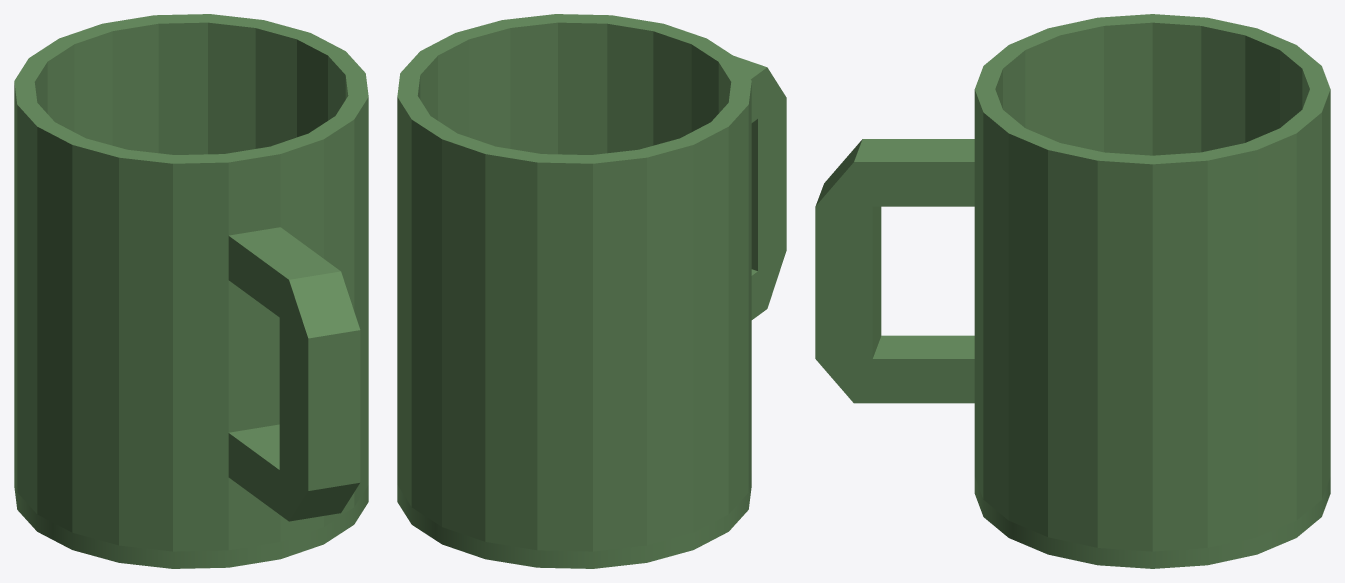
File: Mug.fbx
The picture shows the model from 3 angles, left to right: view 1: azimuth 30°, elevation 25°; view 2: azimuth 150°, elevation 25°; view 3: azimuth 270°, elevation 25°; orthographic projection.
Visible parts, largest first — view 1: cup; view 2: cup; view 3: cup.
Part boxes in pixels (bbox=[...]): cup: bbox=[14, 14, 368, 568]; cup: bbox=[397, 14, 786, 568]; cup: bbox=[815, 14, 1330, 568].
Size of the model in its own units: 0.1063 by 0.1334 by 0.1539.
